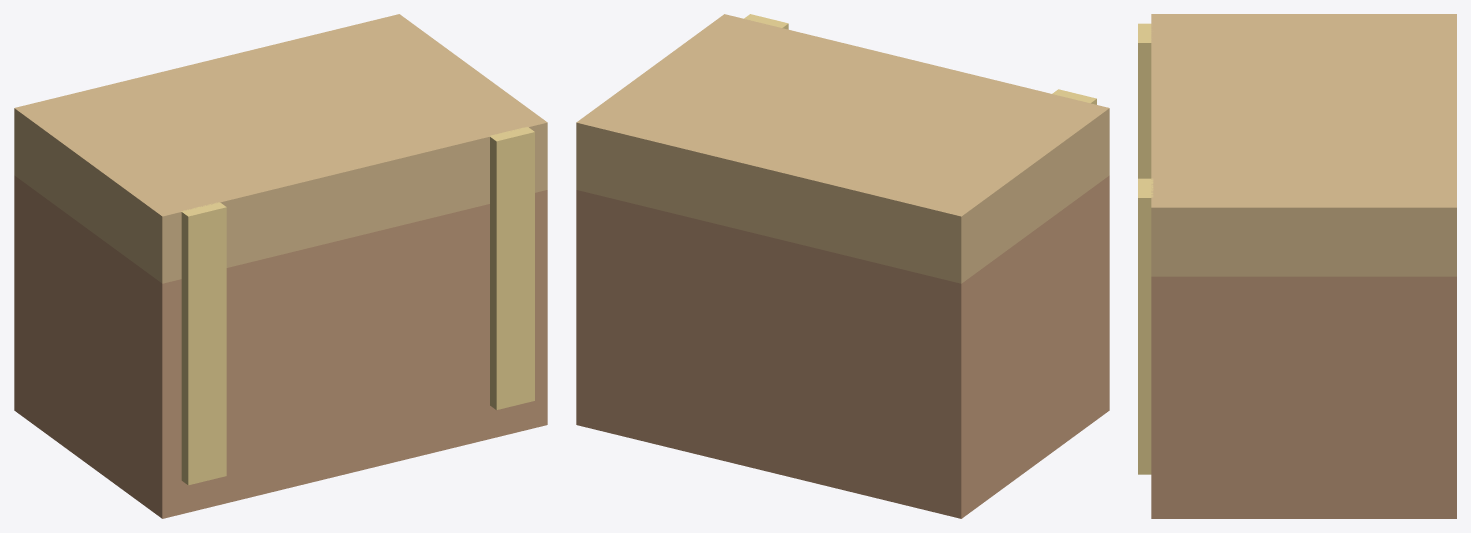
File: treasure_chest.glb
3 renders of one model, left to right at view 1: azimuth 30°, elevation 25°; view 2: azimuth 150°, elevation 25°; view 3: azimuth 270°, elevation 25°, orthographic. The views are drawn at different scales.
Visible parts, largest first — view 1: base, lid, band (×2); view 2: base, lid; view 3: lid, base, band (×2).
Boxes of the visible parts, x1=… form: base: x1=14, y1=175, x2=547, y2=518; lid: x1=14, y1=14, x2=547, y2=283; band (×2): x1=181, y1=127, x2=534, y2=485; base: x1=576, y1=175, x2=1109, y2=518; lid: x1=576, y1=14, x2=1109, y2=283; lid: x1=1151, y1=14, x2=1456, y2=276; base: x1=1151, y1=276, x2=1456, y2=518; band (×2): x1=1138, y1=23, x2=1153, y2=474.
Bounding box in the file's own units: 1.2 × 0.9 × 0.835.
